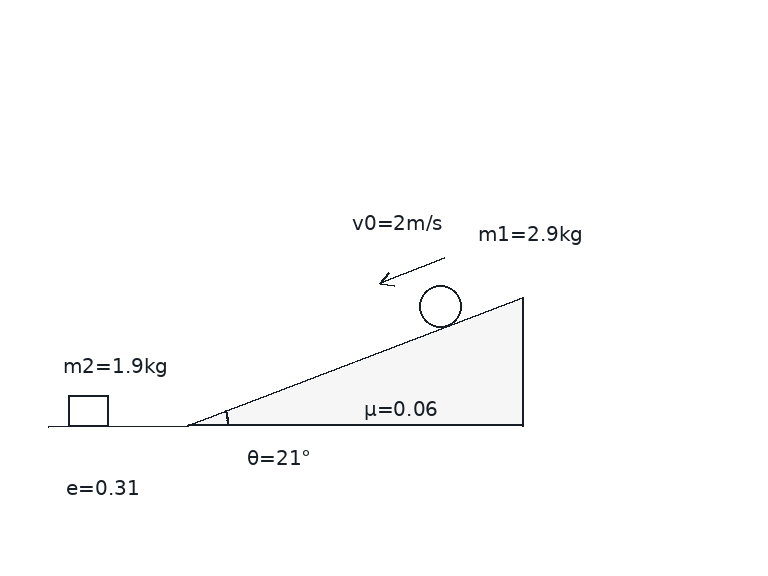ball: (417, 283, 463, 329)
block: (66, 394, 110, 427)
ramp: (186, 295, 523, 427)
